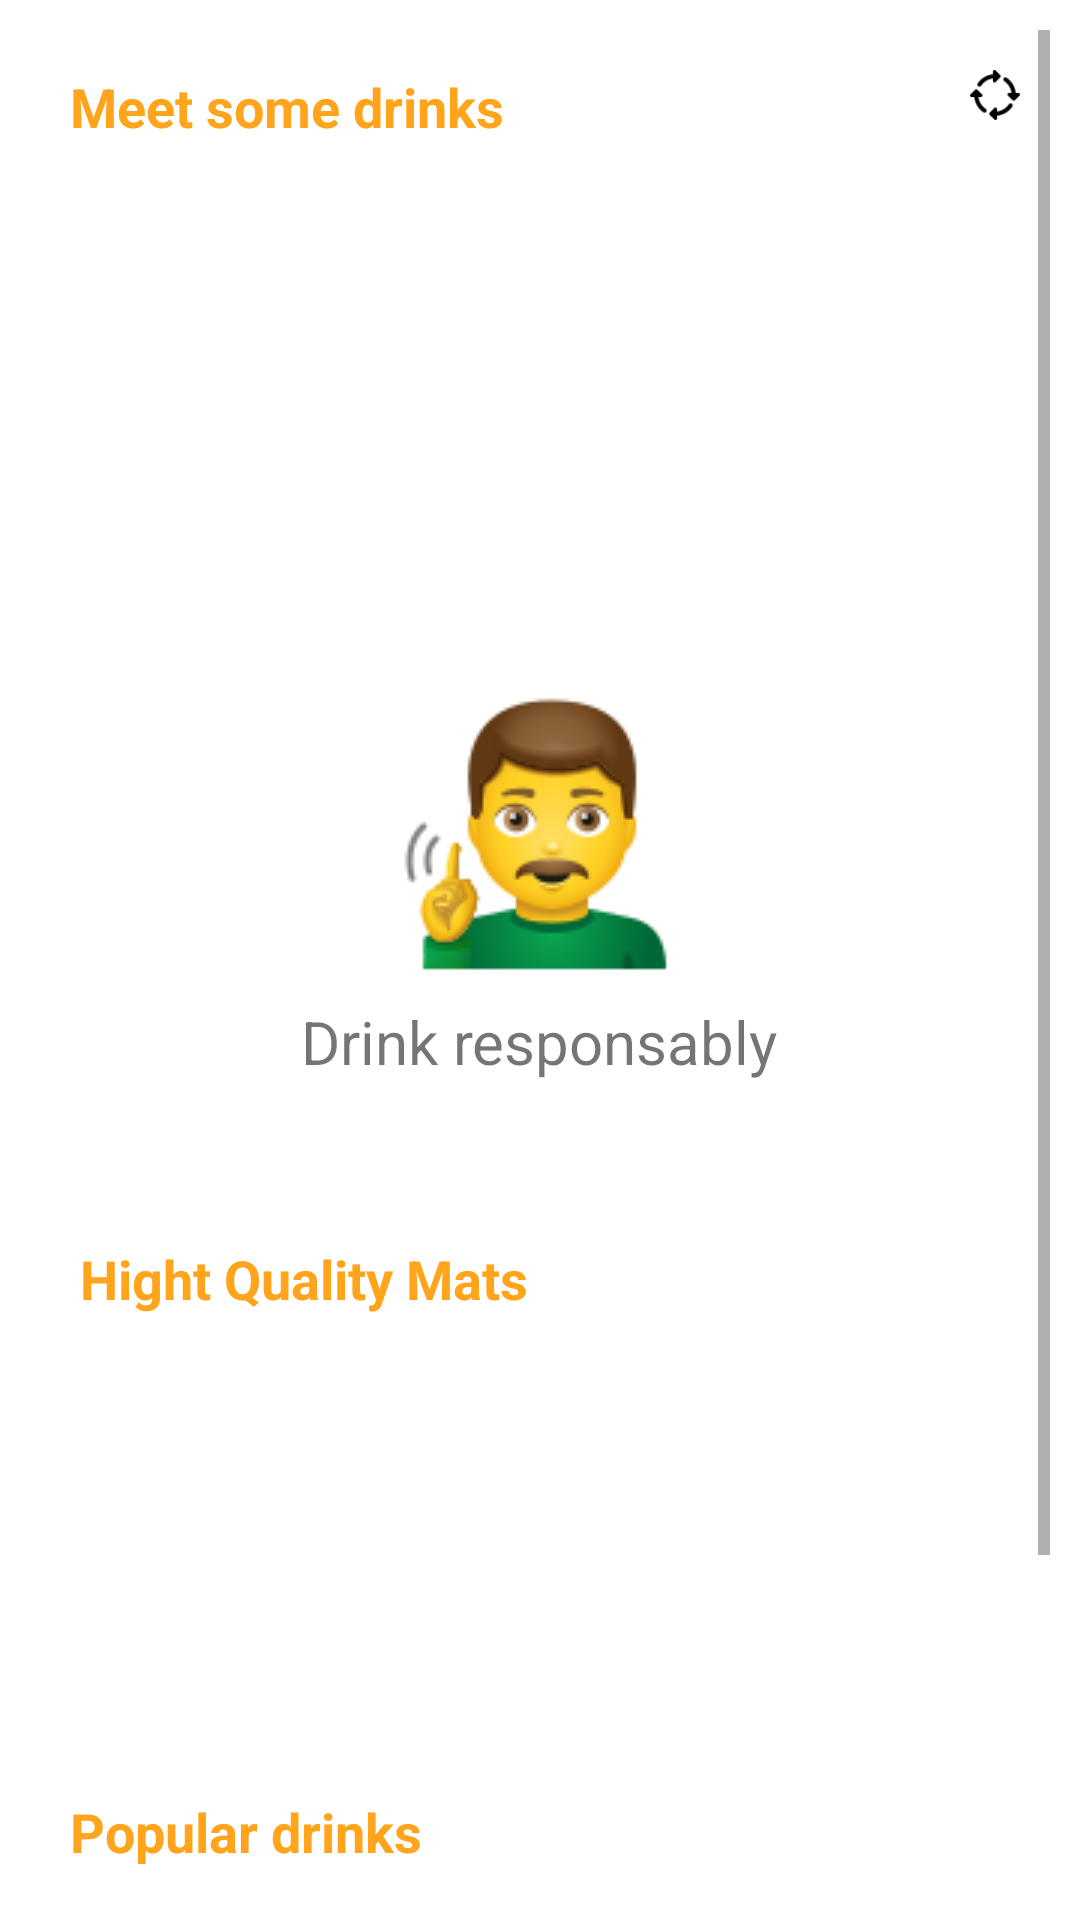

Screen size 1080w x 1920h. Icon name, then its box in pixels as (x1, y1, x2, y2):
reload: (970, 70, 1020, 120)
